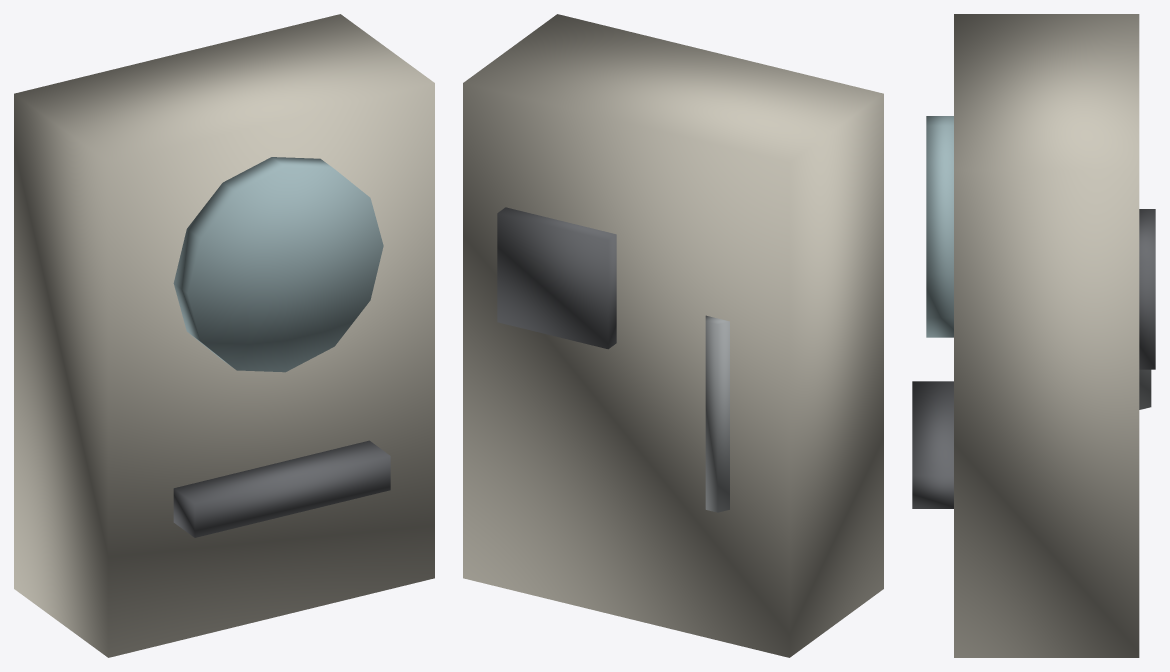
File: factory_time_clock__service.glb
3 renders of one model, left to right at view 1: azimuth 30°, elevation 25°; view 2: azimuth 150°, elevation 25°; view 3: azimuth 270°, elevation 25°, orthographic.
Visible parts, largest first — view 1: world; view 2: world; view 3: world.
Boxes of the visible parts, x1,y1,x2,y2 form: world: (14, 14, 434, 657); world: (463, 14, 883, 657); world: (912, 14, 1155, 657).
Size of the model in its own units: 0.4 by 0.58 by 0.2625.
